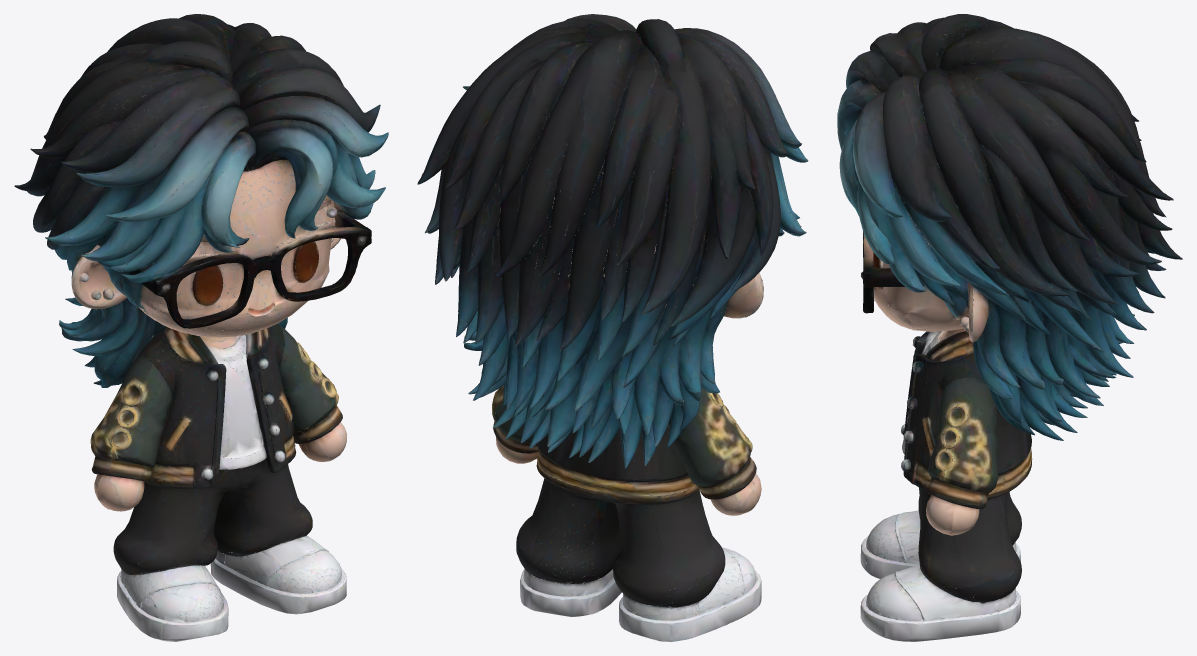
File: clerk-meshopt.glb
3 views of the same model, side by side, from view 1: azimuth 30°, elevation 25°; view 2: azimuth 150°, elevation 25°; view 3: azimuth 270°, elevation 25° (orthographic). The views are drawn at different scales.
Visible parts, largest first — view 1: Clerk_ChenZhixi_Textured; view 2: Clerk_ChenZhixi_Textured; view 3: Clerk_ChenZhixi_Textured.
Boxes of the visible parts, x1,y1,x2,y2 form: Clerk_ChenZhixi_Textured: (14,14,388,641); Clerk_ChenZhixi_Textured: (417,14,808,641); Clerk_ChenZhixi_Textured: (837,14,1182,641).
Bounding box in the file's own units: 1.25 × 2 × 1.11.
1 material, 1 textured.
